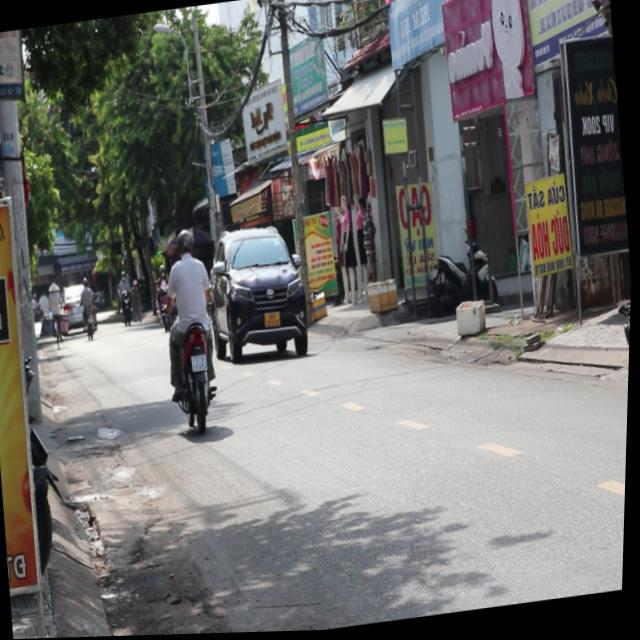helmet: (177, 228, 199, 259)
licenseplate: (152, 221, 232, 434)
nohelmet: (193, 355, 210, 372)
